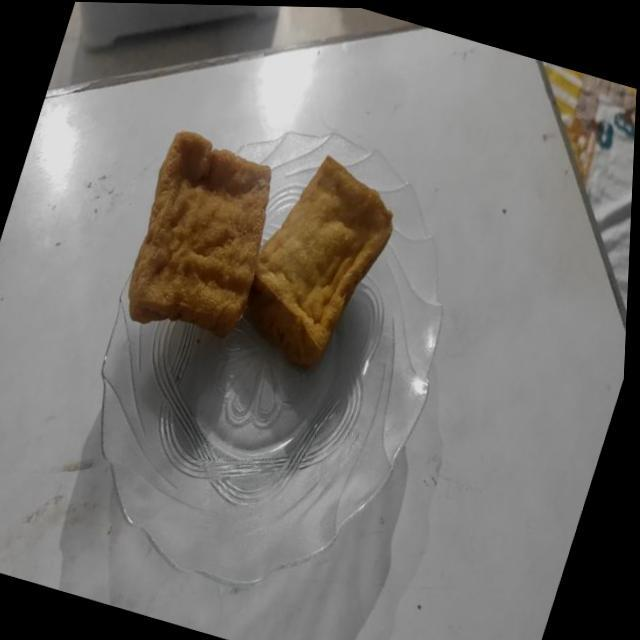tahu_goreng: (247, 156, 392, 368), (128, 131, 270, 336)
